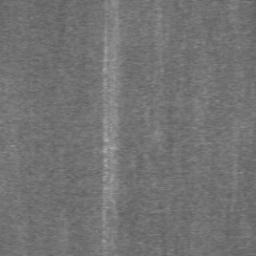Bright scratch: (103, 0, 118, 256)
